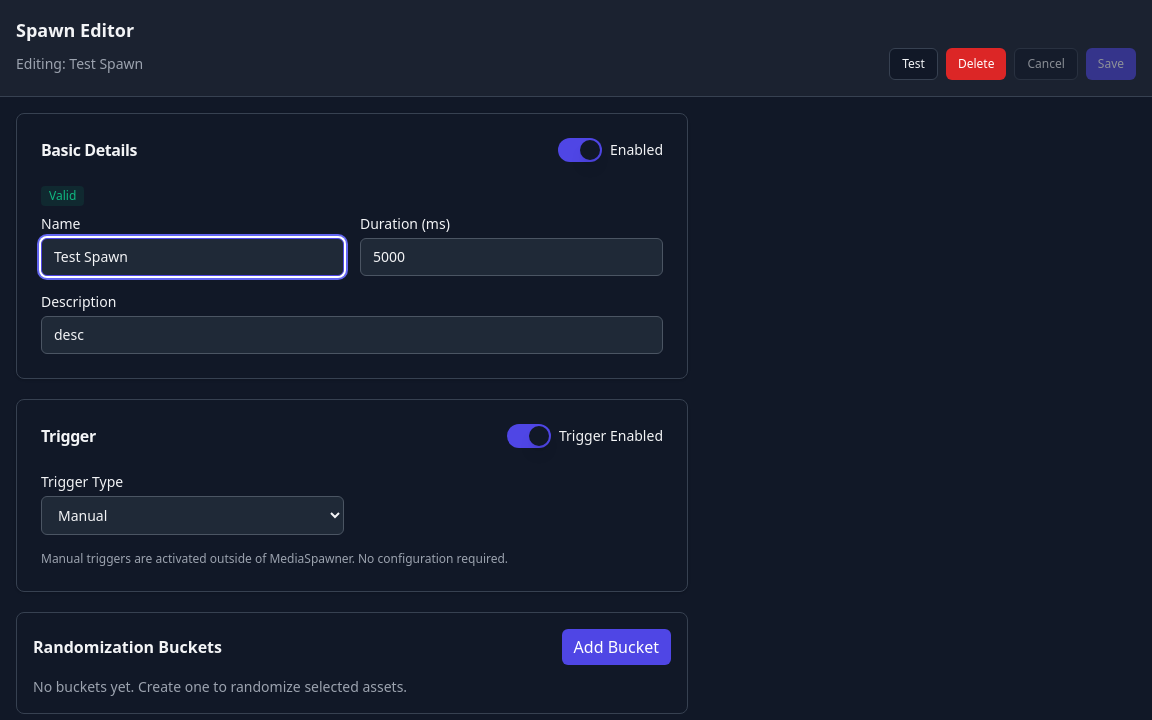
Test: SpawnEditorWorkspace › User Workflows › supports keyboard navigation
Expected: the text "Editing: Test Spawn" is shown, [16,54,143,74]
# Tab to next field
Step 1. Press Tab in the field labelled "Name", box [41,238,344,276]
Expected: the field labelled "Description" is shown, [41,316,663,354]
# Test Enter key on save button
Step 2. Replace the text in the field labelled "Name" with "Updated Name" → (192, 257), box [41,238,344,276]
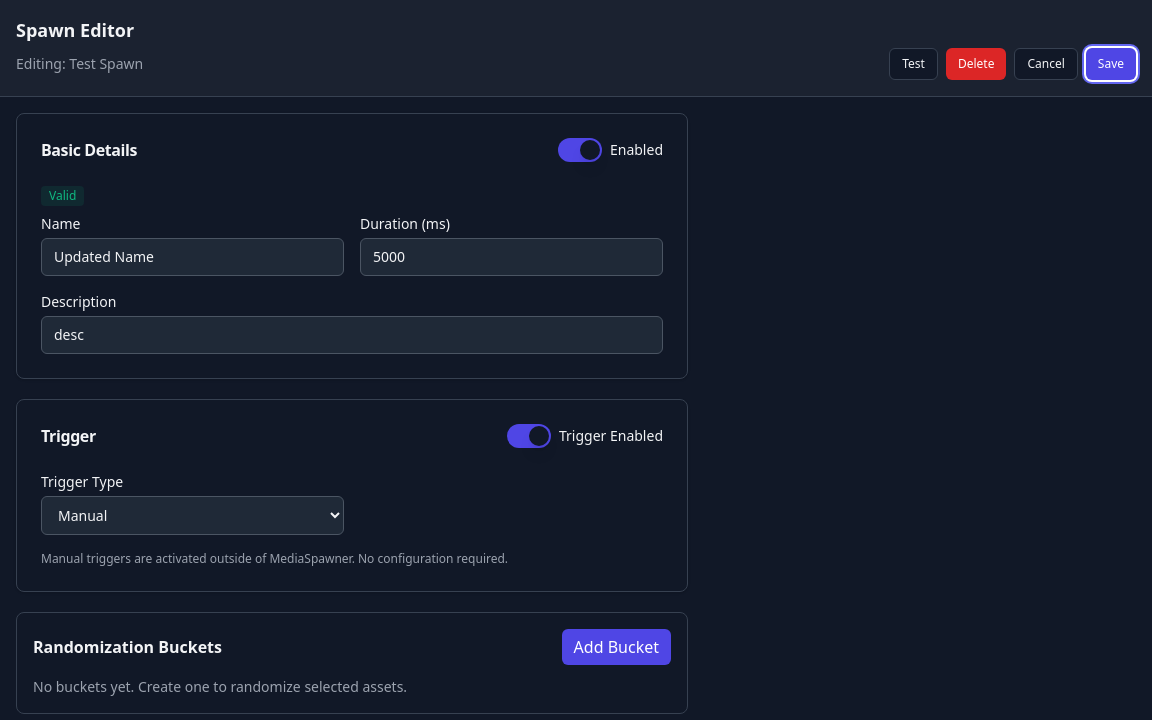
Expected: the button with aria-label "Save spawn" is enabled, [1086,48,1136,80]
